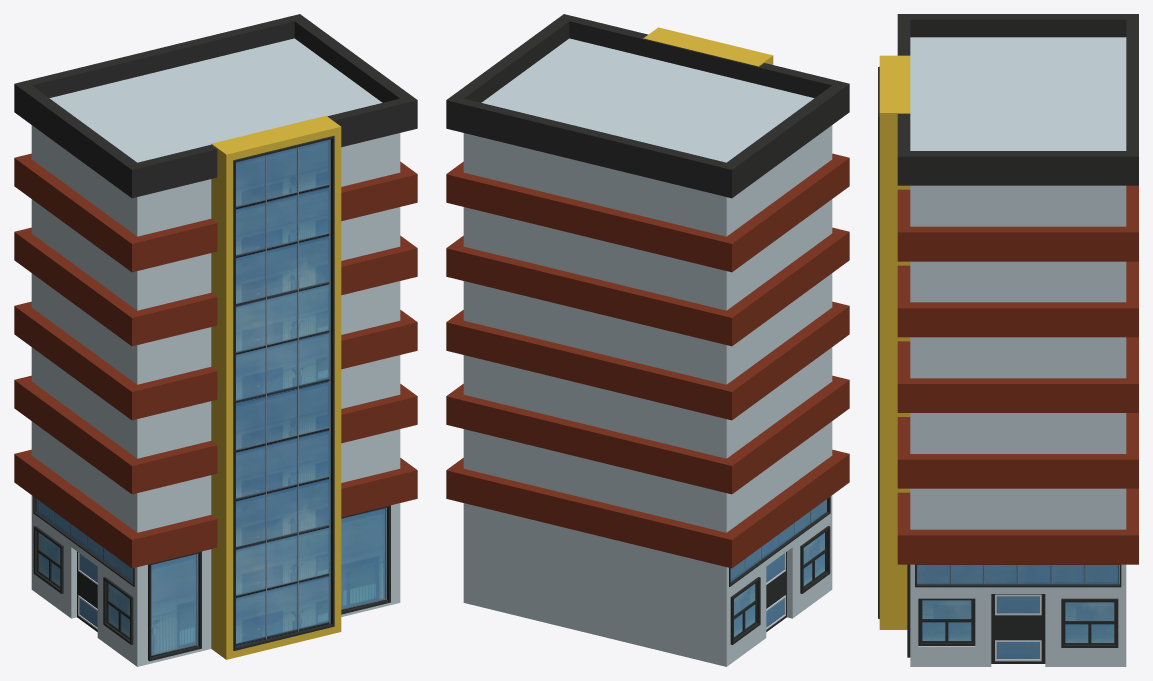
Rendered from main.glb.
3 views of the same model, side by side, from view 1: azimuth 30°, elevation 25°; view 2: azimuth 150°, elevation 25°; view 3: azimuth 270°, elevation 25° (orthographic). The views are drawn at different scales.
Parts seen in each view (by area): view 1: Low poly building, Cube.012; view 2: Low poly building, Cube.012; view 3: Low poly building, Cube.012.
Part boxes in pixels (box(x1,y1,x2,y2)): Low poly building: box(14, 14, 417, 666); Cube.012: box(33, 135, 390, 661); Low poly building: box(446, 14, 849, 666); Cube.012: box(729, 496, 830, 644); Low poly building: box(879, 14, 1138, 666); Cube.012: box(878, 66, 1121, 663).
Size of the model in its own units: 14.14 by 23.89 by 10.92.
Materials: 3 (2 with a texture image).
